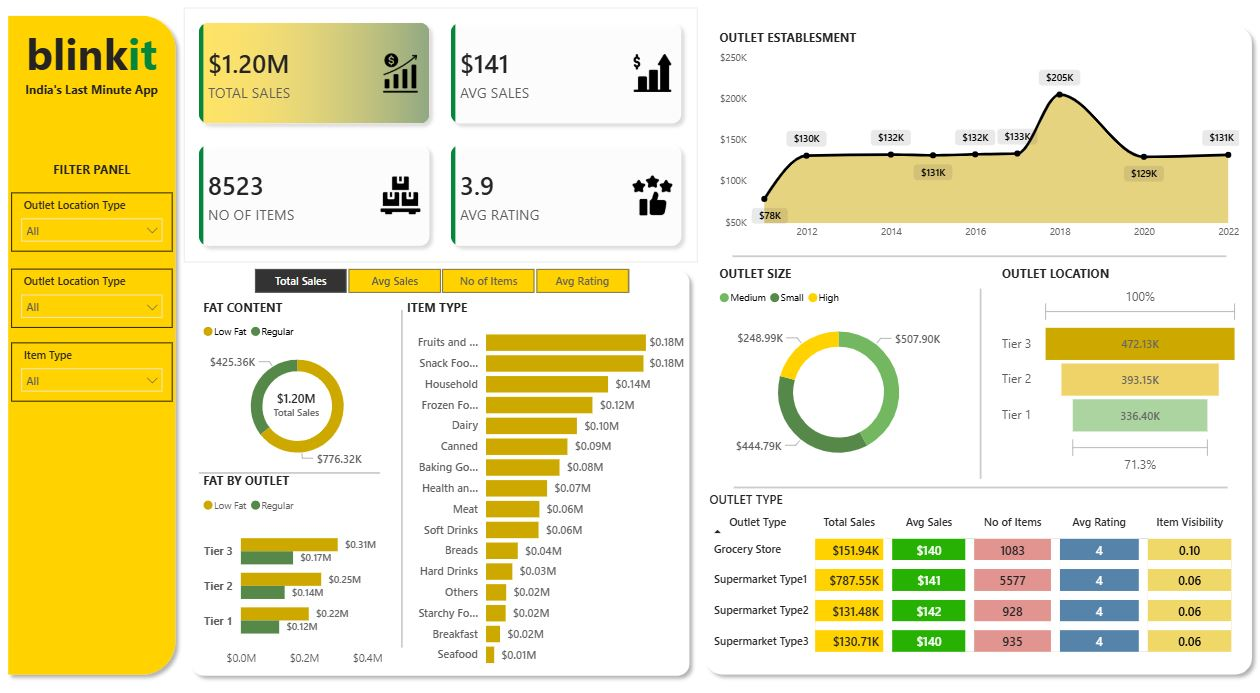

What the dashboard file says about the page in this screenshot:
{"tool":"powerbi","page":{"name":"Dashboard","canvas":[1400,800],"ordinal":0},"visuals":[{"type":"shape","box":[0,25.5,204.1,750.4],"z":0},{"type":"textbox","box":[504.3,694.9,204.1,81],"z":1000},{"type":"textbox","box":[12,37.5,178.6,94.6],"z":2000},{"type":"cardVisual","fields":{"Data":["BlinkIT Grocery Data.Total Sales","BlinkIT Grocery Data.Avg Sales","BlinkIT Grocery Data.No of Items","BlinkIT Grocery Data.Avg Rating"]},"box":[204.4,25.6,570.3,282.4],"z":3000},{"type":"shape","box":[204.2,308.3,570.8,468.1],"z":4000},{"type":"donutChart","title":"FAT CONTENT","fields":{"Y":["BlinkIT Grocery Data.Total Sales"],"Category":["BlinkIT Grocery Data.Item Fat Content"]},"box":[220.6,348.4,219.2,193.7],"z":5000},{"type":"slicer","fields":{"Values":["Metrics.Metrics"]},"box":[256.9,308,465.4,40.3],"z":6000},{"type":"cardVisual","fields":{"Data":["BlinkIT Grocery Data.Total Sales"]},"box":[273.6,430.6,111.1,69.4],"z":7000},{"type":"clusteredBarChart","title":"FAT BY OUTLET","fields":{"Y":["BlinkIT Grocery Data.Total Sales"],"Category":["BlinkIT Grocery Data.Outlet Location Type"],"Series":["BlinkIT Grocery Data.Item Fat Content"]},"box":[220.6,542,219.2,224.6],"z":8000},{"type":"shape","box":[220.6,536.7,201.7,12.1],"z":9000},{"type":"shape","box":[440.3,361.1,12.5,375],"z":10000},{"type":"barChart","title":"ITEM TYPE","fields":{"Y":["BlinkIT Grocery Data.Total Sales"],"Category":["BlinkIT Grocery Data.Item Type"]},"box":[447.2,348.6,318.1,419.4],"z":11000},{"type":"shape","box":[775,37.5,625,737.5],"z":12000},{"type":"lineChart","title":"OUTLET ESTABLESMENT","fields":{"Y":["BlinkIT Grocery Data.Total Sales"],"Category":["BlinkIT Grocery Data.Outlet Establishment Year"]},"box":[794.4,48.6,587.5,243.1],"z":13000},{"type":"shape","box":[813.9,295.8,548.6,11.1],"z":14000},{"type":"donutChart","title":"OUTLET SIZE","fields":{"Y":["BlinkIT Grocery Data.Total Sales"],"Category":["BlinkIT Grocery Data.Outlet Size"]},"box":[794.4,311.1,275,237.5],"z":15000},{"type":"funnel","title":"OUTLET LOCATION","fields":{"Y":["Sum(BlinkIT Grocery Data.Sales)"],"Category":["BlinkIT Grocery Data.Outlet Location Type"]},"box":[1108.3,311.1,273.6,237.5],"z":16000},{"type":"shape","box":[1083.3,337.5,12.5,211.1],"z":17000},{"type":"shape","box":[815.3,552.8,548.6,11.1],"z":18000},{"type":"pivotTable","title":"OUTLET TYPE","fields":{"Rows":["BlinkIT Grocery Data.Outlet Type"],"Values":["BlinkIT Grocery Data.Total Sales","BlinkIT Grocery Data.Avg Sales","BlinkIT Grocery Data.No of Items","BlinkIT Grocery Data.Avg Rating","Avg(BlinkIT Grocery Data.Item Visibility)"]},"box":[783.3,562.5,606.9,184.7],"z":19000},{"type":"slicer","fields":{"Values":["BlinkIT Grocery Data.Outlet Location Type"]},"box":[12.5,230.6,179.2,65.3],"z":20000},{"type":"slicer","fields":{"Values":["BlinkIT Grocery Data.Outlet Location Type"]},"box":[12.5,315.3,179.2,65.3],"z":21000},{"type":"slicer","fields":{"Values":["BlinkIT Grocery Data.Item Type"]},"box":[12.5,397.2,179.2,65.3],"z":22000},{"type":"textbox","box":[12.5,190.3,179.2,27.8],"z":23000}]}

Visuals, with their boxes on the page's 1400x800 design canvas (x1, y1, x2, y2). These are canvas units, not pixel positions in the 1260x693 screenshot, which may show the page scaled, cropped or inside an application window:
shape: <region>0, 26, 204, 776</region>
textbox: <region>504, 695, 708, 776</region>
textbox: <region>12, 38, 191, 132</region>
cardVisual - BlinkIT Grocery Data.Total Sales x BlinkIT Grocery Data.Avg Sales: <region>204, 26, 775, 308</region>
shape: <region>204, 308, 775, 776</region>
"FAT CONTENT" donutChart: <region>221, 348, 440, 542</region>
slicer - Metrics.Metrics: <region>257, 308, 722, 348</region>
cardVisual - BlinkIT Grocery Data.Total Sales: <region>274, 431, 385, 500</region>
"FAT BY OUTLET" clusteredBarChart: <region>221, 542, 440, 767</region>
shape: <region>221, 537, 422, 549</region>
shape: <region>440, 361, 453, 736</region>
"ITEM TYPE" barChart: <region>447, 349, 765, 768</region>
shape: <region>775, 38, 1400, 775</region>
"OUTLET ESTABLESMENT" lineChart: <region>794, 49, 1382, 292</region>
shape: <region>814, 296, 1362, 307</region>
"OUTLET SIZE" donutChart: <region>794, 311, 1069, 549</region>
"OUTLET LOCATION" funnel: <region>1108, 311, 1382, 549</region>
shape: <region>1083, 338, 1096, 549</region>
shape: <region>815, 553, 1364, 564</region>
"OUTLET TYPE" pivotTable: <region>783, 562, 1390, 747</region>
slicer - BlinkIT Grocery Data.Outlet Location Type: <region>12, 231, 192, 296</region>
slicer - BlinkIT Grocery Data.Outlet Location Type: <region>12, 315, 192, 381</region>
slicer - BlinkIT Grocery Data.Item Type: <region>12, 397, 192, 462</region>
textbox: <region>12, 190, 192, 218</region>
